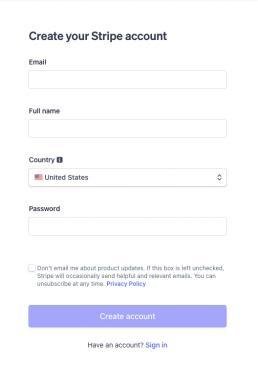button: (29, 306, 229, 329)
checkbox: (29, 265, 37, 274)
dropdown: (29, 169, 228, 188)
input: (29, 121, 228, 139), (29, 72, 228, 90), (29, 219, 228, 237)
label: (28, 205, 65, 214), (28, 156, 64, 165), (28, 106, 63, 115), (29, 58, 48, 67)
